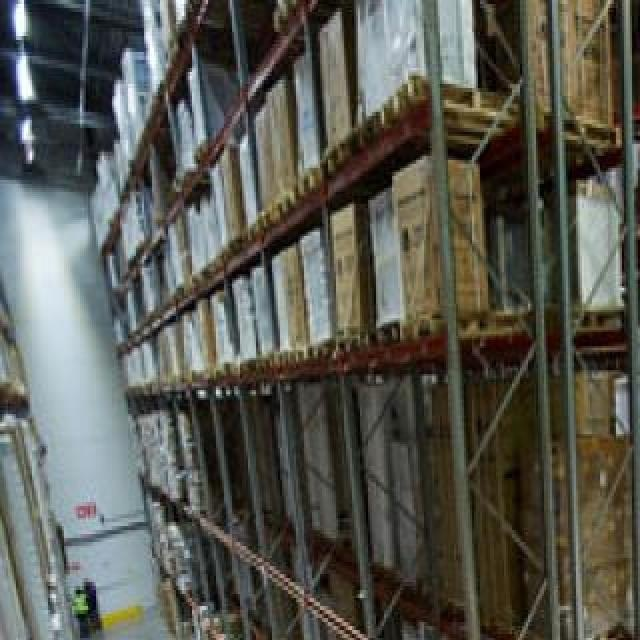fluorescent tube: (6, 56, 57, 105), (4, 2, 44, 38), (16, 136, 51, 168)
